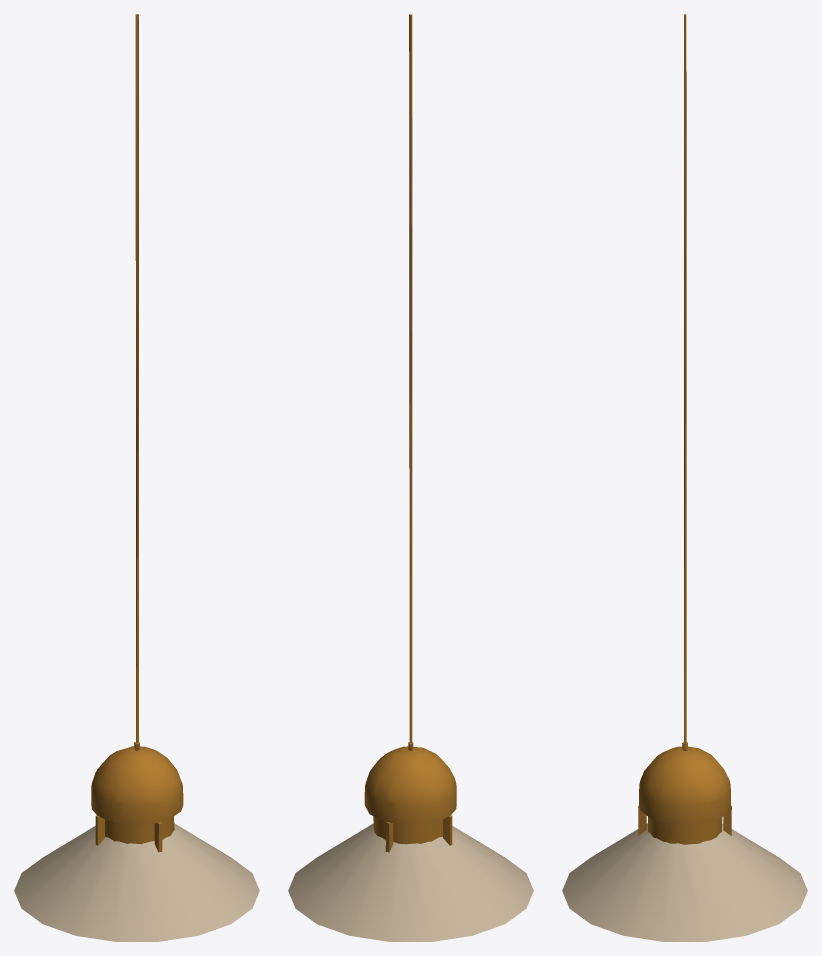
The model's file is Lamp 1.FBX.
3 views of the same model, side by side, from view 1: azimuth 30°, elevation 25°; view 2: azimuth 150°, elevation 25°; view 3: azimuth 270°, elevation 25° (orthographic).
Visible parts, largest first — view 1: Lamp 1; view 2: Lamp 1; view 3: Lamp 1.
Boxes of the visible parts, x1,y1,x2,y2 form: Lamp 1: [14, 14, 259, 941]; Lamp 1: [288, 14, 533, 941]; Lamp 1: [562, 14, 807, 941].
Bounding box in the file's own units: 387 × 393 × 1576.
